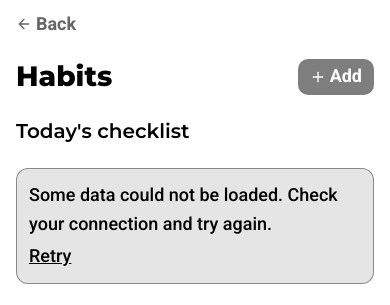
HabitsPage read failure (permission-denied reads) › habits read fails: error + Retry, never the genuine-empty state, and no seed is offered
The width and height of the screenshot is (390, 305).
Expected: the text "Some data could not be loaded. Check your connection and try again." is shown, [29,181,361,238]
Expected: the button "Add" is disabled, [298,59,374,95]
Click the button "Retry" at (50, 257), box [29,242,71,271]
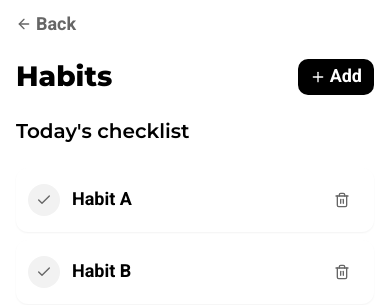
Now the button "Habit A" is shown, box [28,184,314,216]
